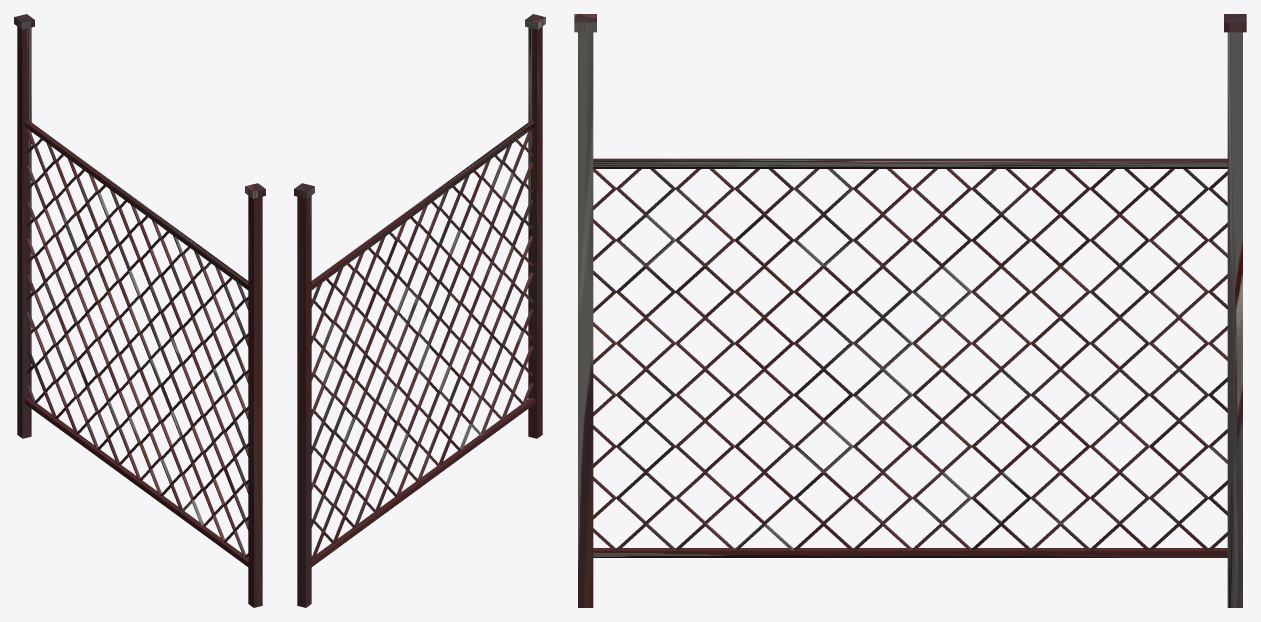
The model's file is fence 2.fbx.
3 views of the same model, side by side, from view 1: azimuth 30°, elevation 25°; view 2: azimuth 150°, elevation 25°; view 3: azimuth 270°, elevation 25° (orthographic). The views are drawn at different scales.
Visible parts, largest first — view 1: fence 2; view 2: fence 2; view 3: fence 2.
Part boxes in pixels (left/top/right/bottom): fence 2: left=14, top=14, right=265, bottom=607; fence 2: left=294, top=14, right=545, bottom=607; fence 2: left=574, top=14, right=1246, bottom=607.
Bounding box in the file's own units: 58.2 × 1805 × 1875.
